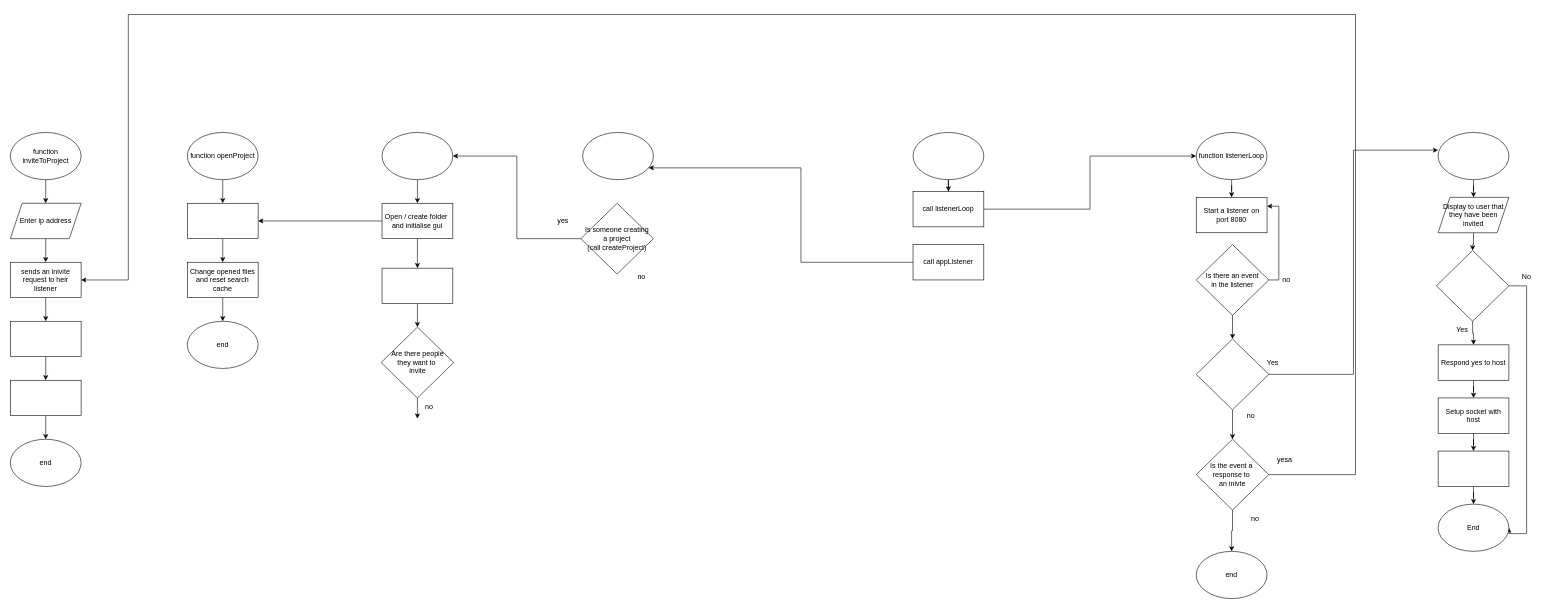
The diagram is 1555 pixels wide and 609 high, and some of its shapes have lost their labels. Each missing label, with the centre of its shape:
"Add user to participant lists" goes at point 45,339.
"Ask host for project details" goes at point 1473,468.
"create socket with user" goes at point 45,398.
"Did they accept invite" goes at point 1472,285.
"Find the project start listener for diretoruy" goes at point 222,221.
"function appListener" goes at point 617,156.
"function createProject" goes at point 417,156.
"function joinProject" goes at point 1473,156.
"initialise list of participants" goes at point 417,286.
"Is the event an invite (call joinProject)" goes at point 1232,374.
"Start" goes at point 948,156.
